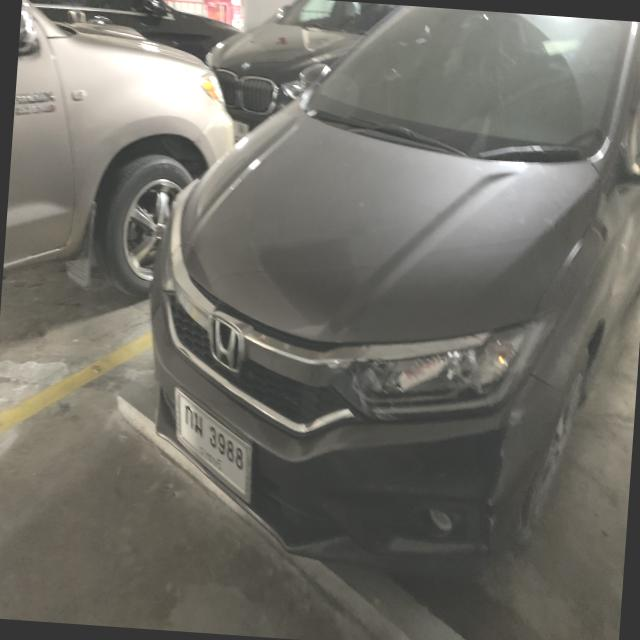license_plate: (166, 382, 260, 508)
